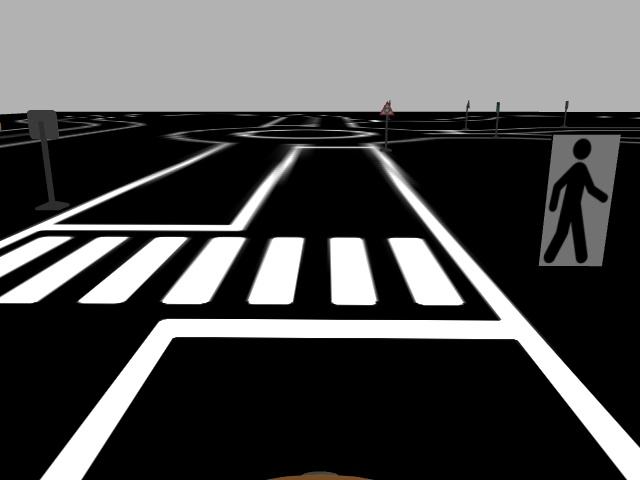pedestrian: (536, 133, 624, 269)
